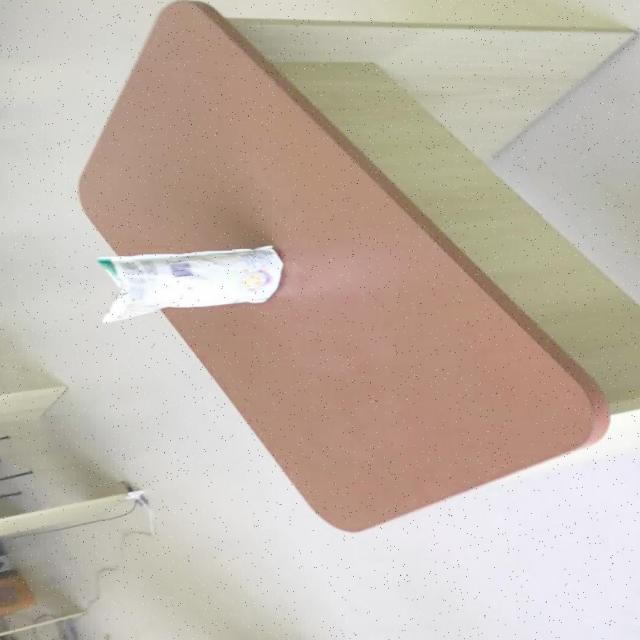CornFlakes: (94, 244, 283, 323)
